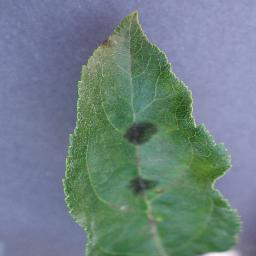apple scab disease: (61, 9, 242, 255)
